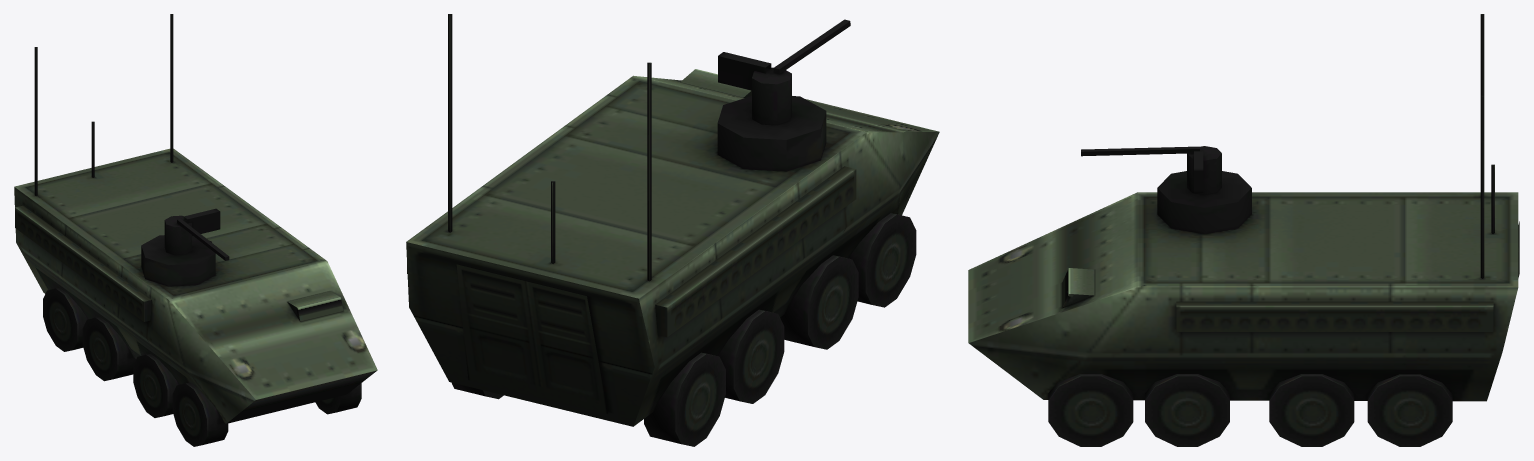
File: Stryker_FS.DAE
The picture shows the model from 3 angles, left to right: view 1: azimuth 30°, elevation 25°; view 2: azimuth 150°, elevation 25°; view 3: azimuth 270°, elevation 25°; orthographic projection. The views are drawn at different scales.
Parts seen in each view (by area): view 1: _1186_Stryker_FS; view 2: _1186_Stryker_FS; view 3: _1186_Stryker_FS.
Boxes of the visible parts, x1,y1,x2,y2 form: _1186_Stryker_FS: (14, 14, 377, 446); _1186_Stryker_FS: (406, 14, 939, 446); _1186_Stryker_FS: (968, 14, 1519, 446).
Bounding box in the file's own units: 112 × 169 × 246.
Materials: 1 (1 with a texture image).
